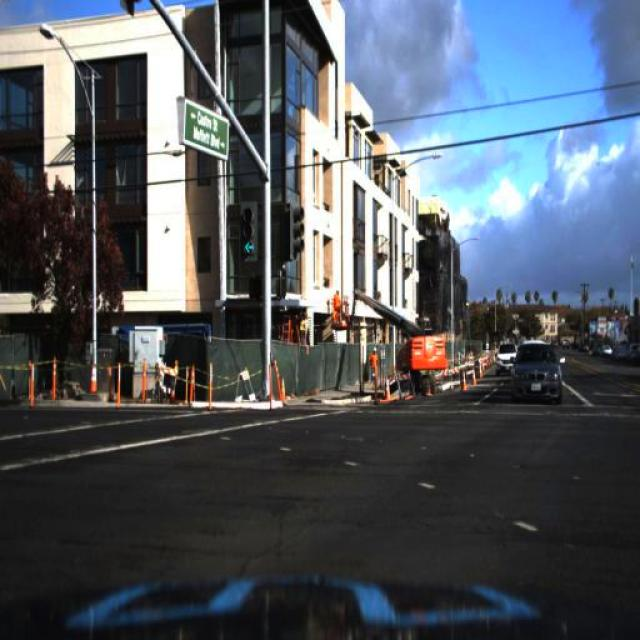semaforo: (238, 202, 257, 262)
